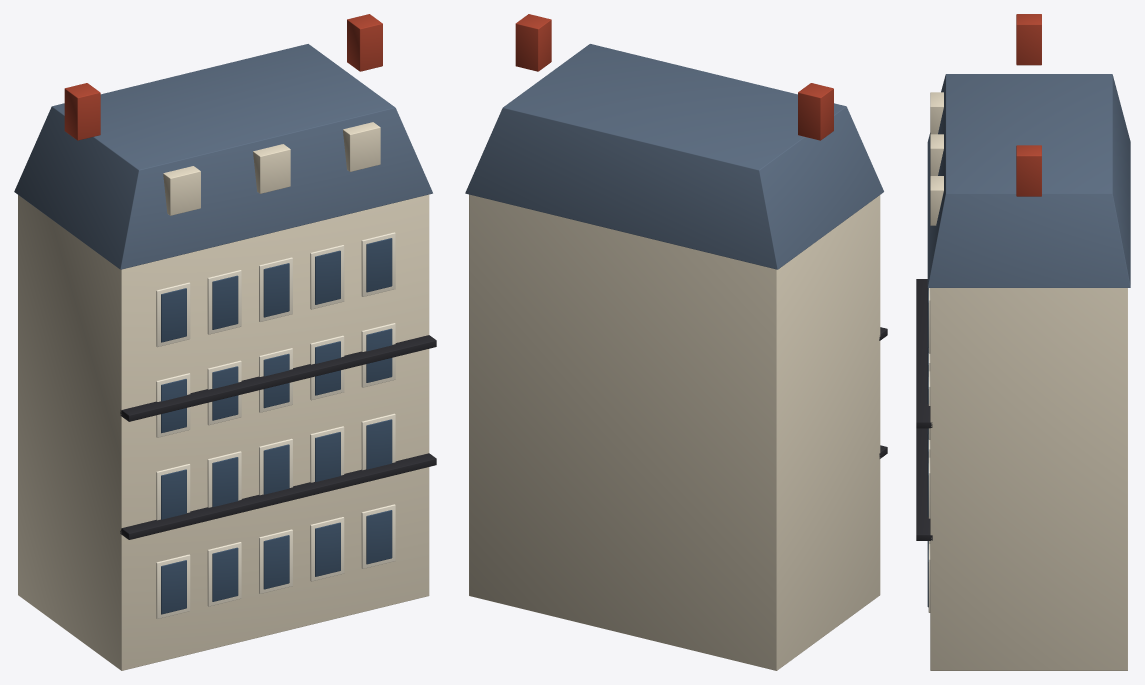
Rendered from rg_franca_1.glb.
3 renders of one model, left to right at view 1: azimuth 30°, elevation 25°; view 2: azimuth 150°, elevation 25°; view 3: azimuth 270°, elevation 25°, orthographic. The views are drawn at different scales.
Parts seen in each view (by area): view 1: rg_franca_1; view 2: rg_franca_1; view 3: rg_franca_1.
Part boxes in pixels (<box>): rg_franca_1: <box>14,14,436,670</box>; rg_franca_1: <box>465,14,887,670</box>; rg_franca_1: <box>916,14,1130,670</box>.
Bounding box in the file's own units: 12.19 × 20.1 × 7.6.
